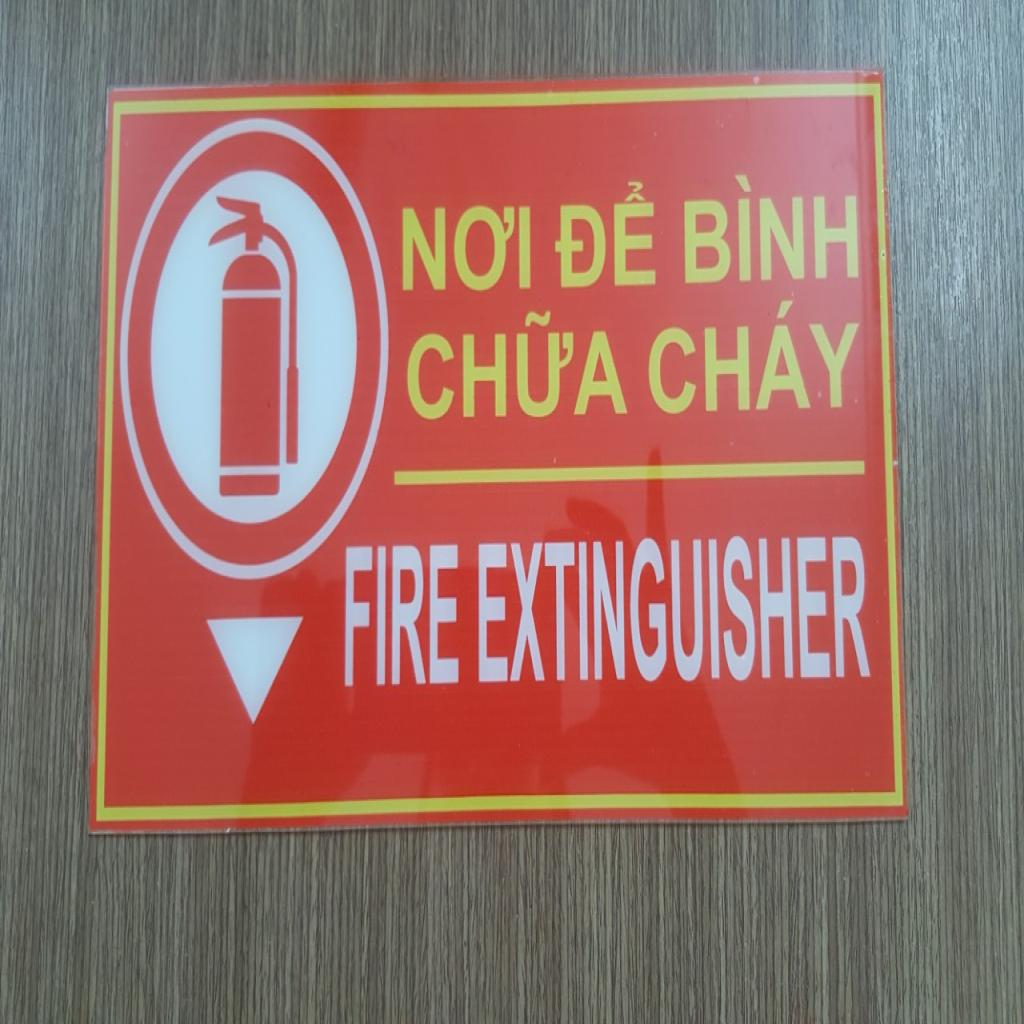text: (644, 294, 862, 421), (405, 304, 630, 426), (682, 168, 860, 289), (343, 542, 461, 691), (400, 199, 533, 296), (554, 176, 658, 293)
